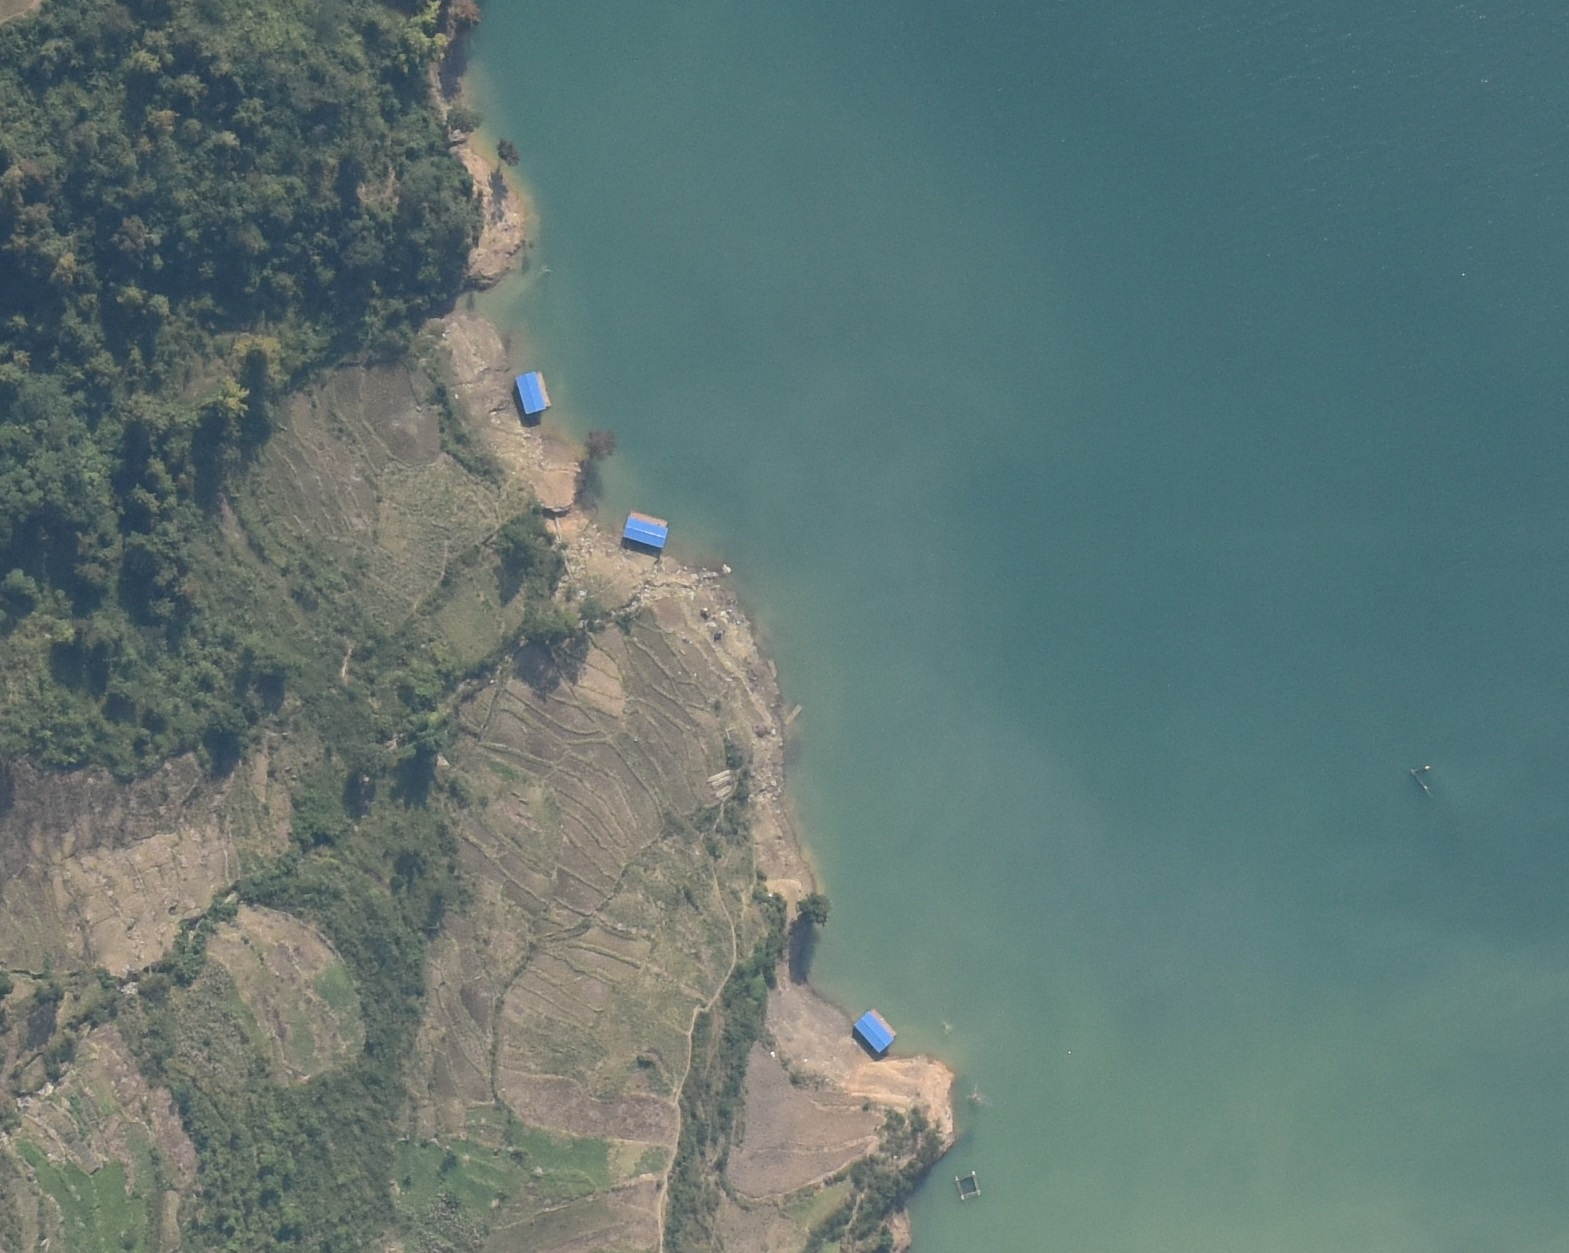building: (854, 1009, 895, 1054), (511, 370, 552, 413), (623, 510, 670, 547)
cultivation-mesh-cage: (954, 1171, 982, 1201)
